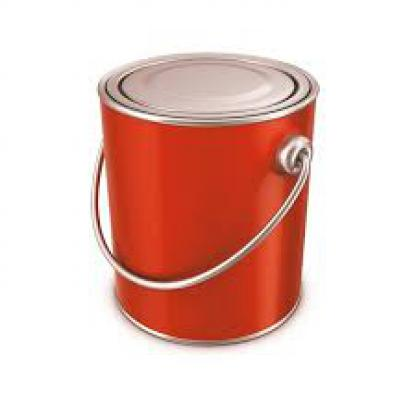METAL: (89, 52, 318, 344)
